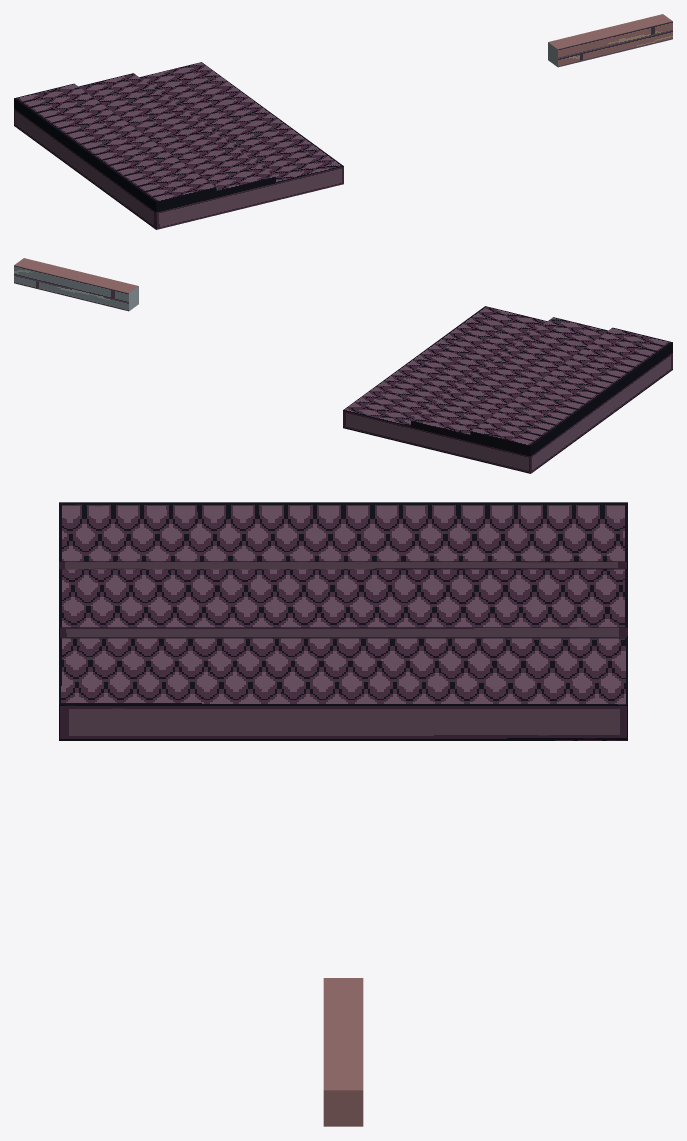
The model's file is wuding.glb.
3 views of the same model, one above another, from view 1: azimuth 30°, elevation 25°; view 2: azimuth 150°, elevation 25°; view 3: azimuth 270°, elevation 25° (orthographic). The views are drawn at different scales.
Visible parts, largest first — view 1: 立方体, 立方体.001; view 2: 立方体, 立方体.001; view 3: 立方体, 立方体.001.
Part boxes in pixels (x1,y1,x2,y2): 立方体: (14, 62, 343, 229); 立方体.001: (548, 14, 672, 67); 立方体: (343, 306, 672, 473); 立方体.001: (14, 258, 138, 311); 立方体: (59, 502, 627, 740); 立方体.001: (323, 978, 363, 1126).
Size of the model in its own units: 10.13 by 0.459 by 4.28.
Materials: 2 (2 with a texture image).
